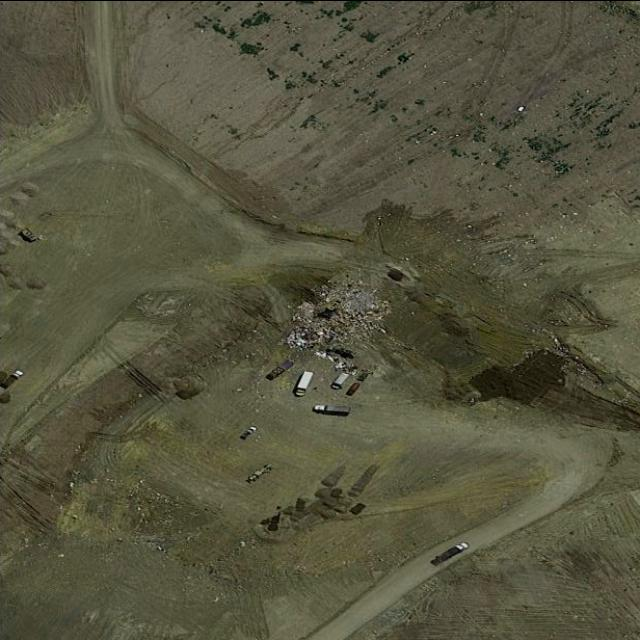dump_site: (271, 264, 402, 371)
